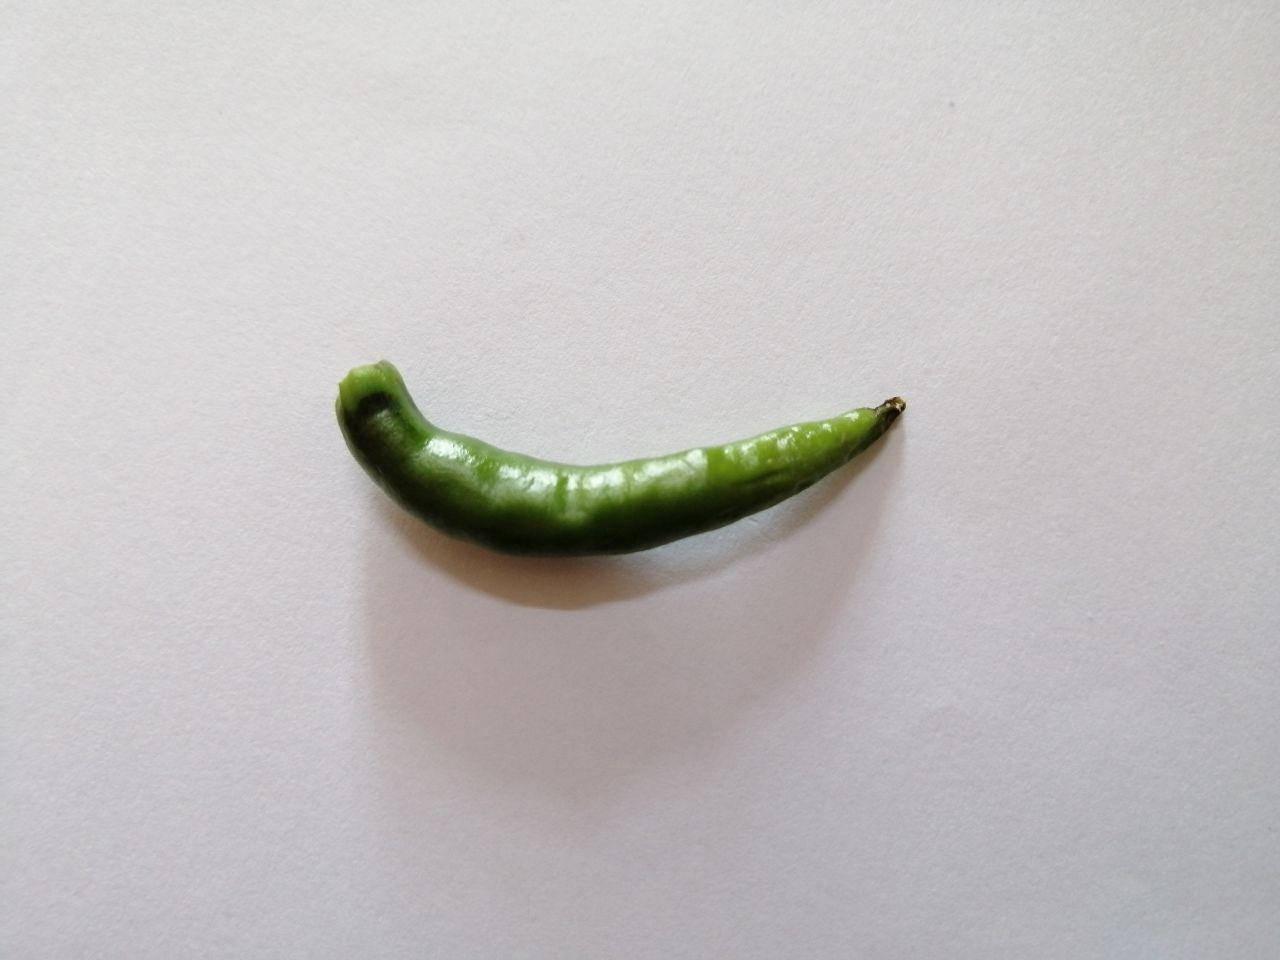lada hijau: (316, 342, 922, 575)
